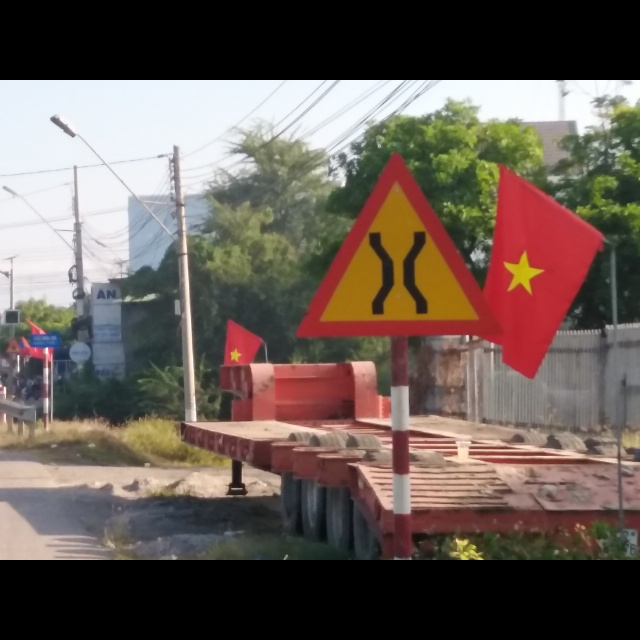Cầu hẹp: (297, 150, 502, 338)
